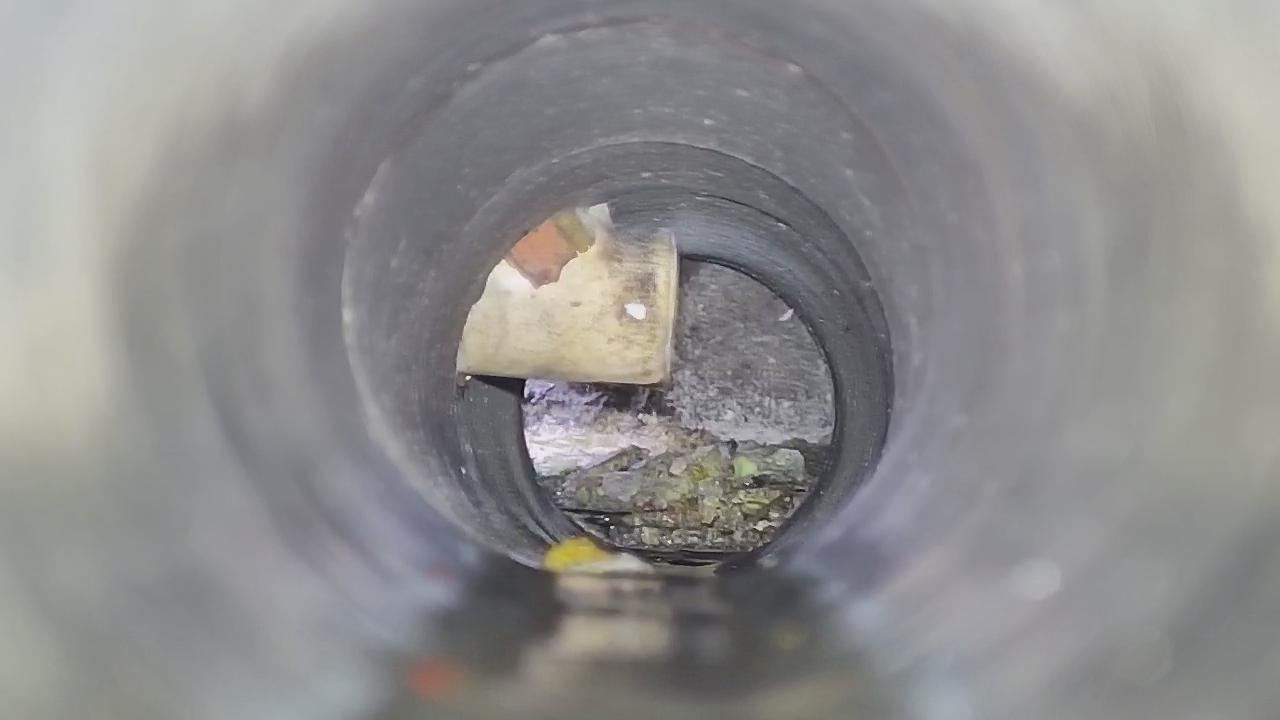CQBG: (522, 262, 835, 565)
ZGAJ: (458, 205, 679, 384)
